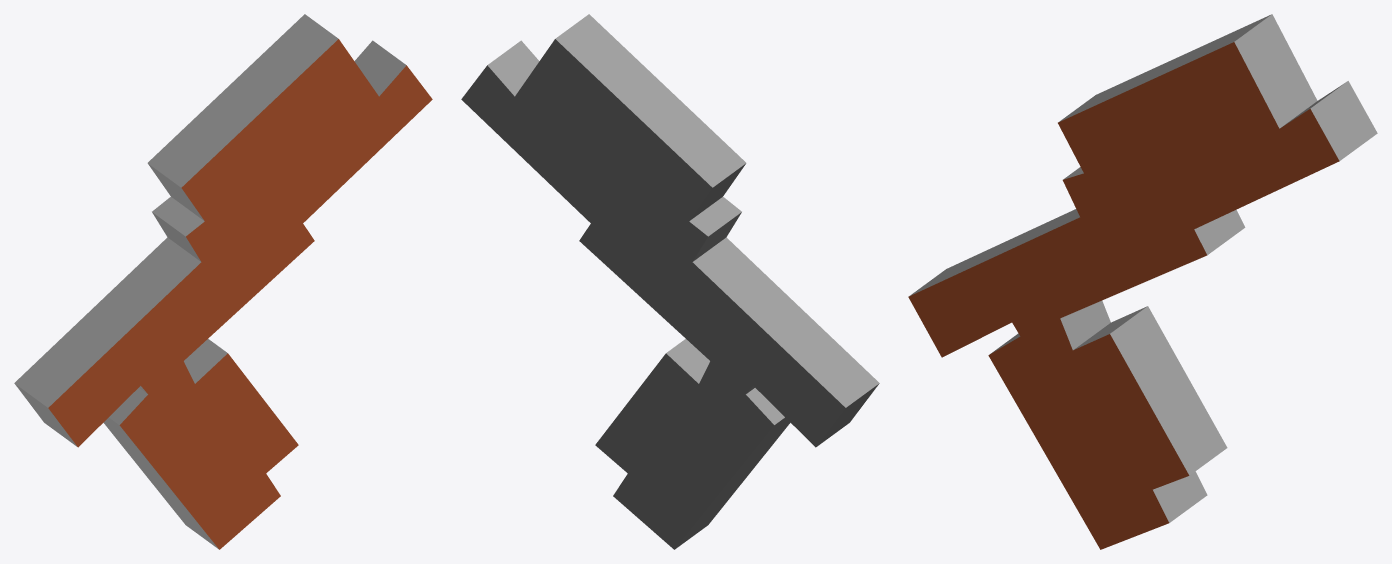
File: construction_3390_assumed_A_Casa_h6m.obj
The picture shows the model from 3 angles, left to right: view 1: azimuth 30°, elevation 25°; view 2: azimuth 150°, elevation 25°; view 3: azimuth 330°, elevation 25°; orthographic projection. The views are drawn at different scales.
Parts seen in each view (by area): view 1: construction_3390_assumed_A_Casa; view 2: construction_3390_assumed_A_Casa; view 3: construction_3390_assumed_A_Casa.
Boxes of the visible parts, x1,y1,x2,y2 form: construction_3390_assumed_A_Casa: [14, 14, 432, 549]; construction_3390_assumed_A_Casa: [461, 14, 879, 549]; construction_3390_assumed_A_Casa: [908, 14, 1377, 549].
Bounding box in the file's own units: 39.23 × 46.99 × 6.
